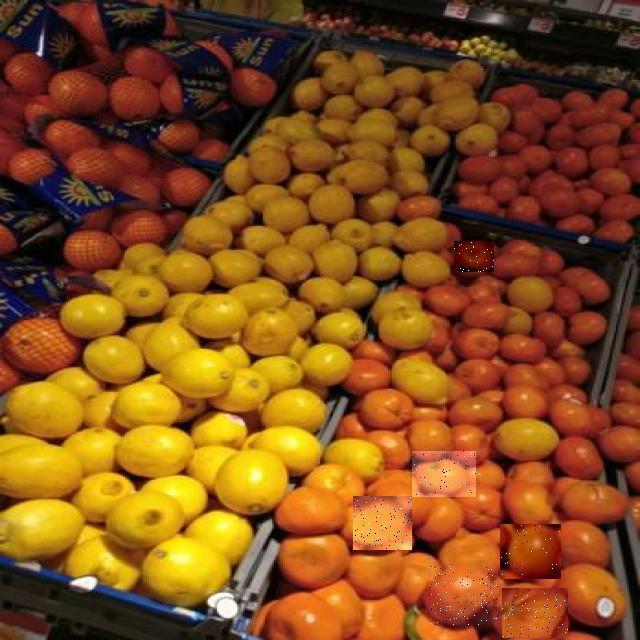Clementine: (431, 566, 499, 626), (500, 524, 561, 579), (502, 588, 568, 638), (353, 496, 412, 550), (412, 451, 476, 497), (455, 241, 495, 272)
